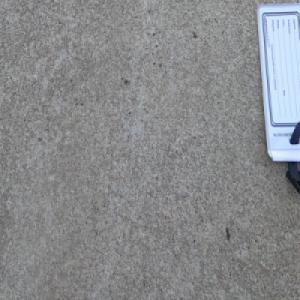LuggageTag: (253, 2, 300, 200)
